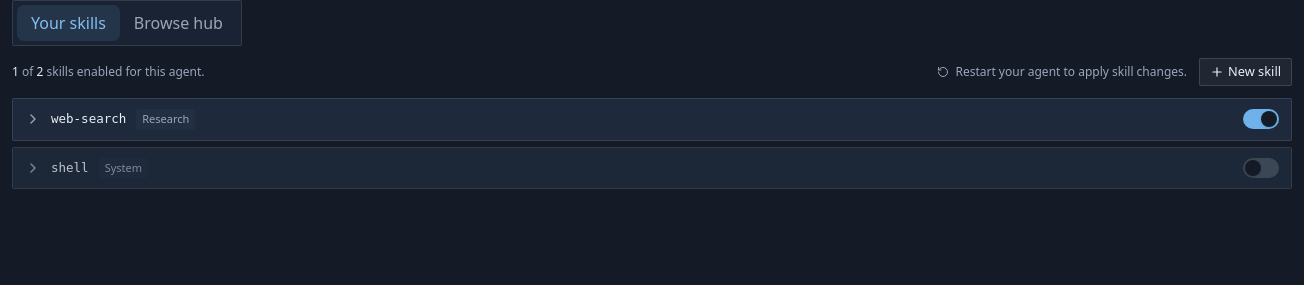
SkillsSection › expands a row on click to reveal the description
Click the button "web-search research" at (89, 119), box [25, 109, 1231, 130]
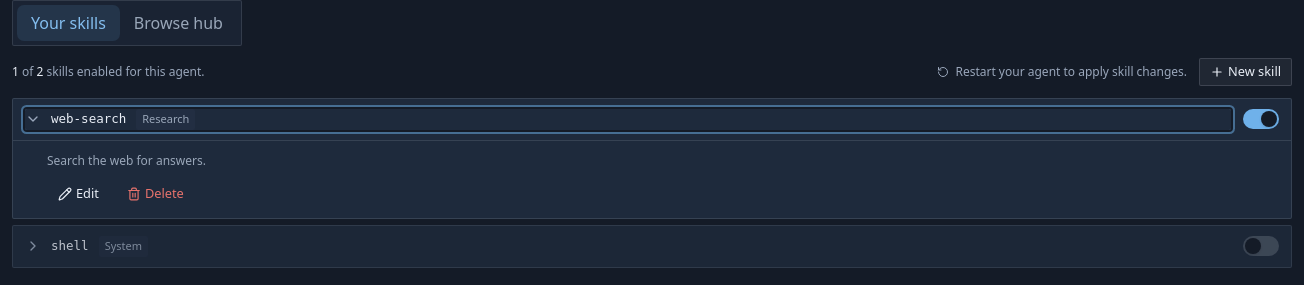
Now the button "web-search research" is expanded, box [25, 109, 1231, 130]
Now the text "Search the web for answers." is shown, box [47, 152, 206, 168]
